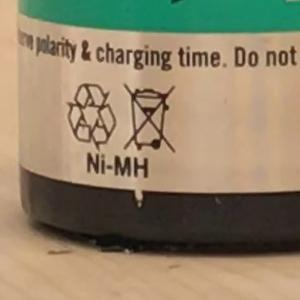keyword: (77, 147, 158, 184)
